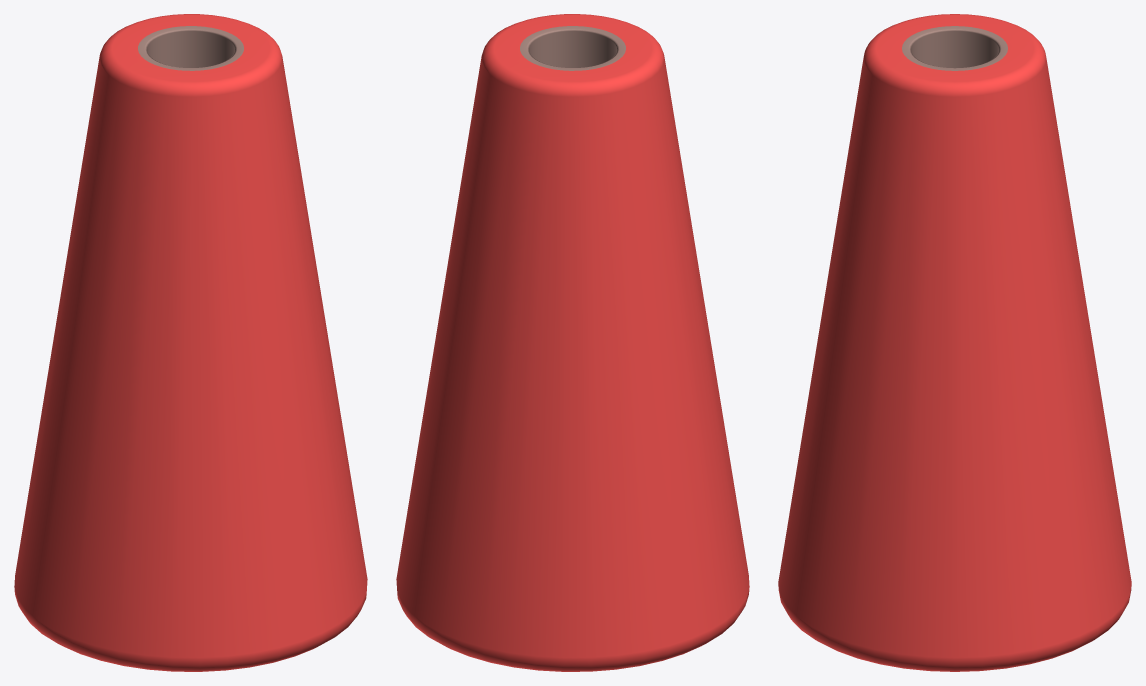
File: Public_19_Big_Skein_of_thread_3.glb
3 views of the same model, side by side, from view 1: azimuth 30°, elevation 25°; view 2: azimuth 150°, elevation 25°; view 3: azimuth 270°, elevation 25° (orthographic).
Parts seen in each view (by area): view 1: Public_19_Big_Skein_of_thread_3; view 2: Public_19_Big_Skein_of_thread_3; view 3: Public_19_Big_Skein_of_thread_3.
Part boxes in pixels (x1=…): Public_19_Big_Skein_of_thread_3: x1=14, y1=14, x2=367, y2=671; Public_19_Big_Skein_of_thread_3: x1=396, y1=14, x2=749, y2=671; Public_19_Big_Skein_of_thread_3: x1=778, y1=14, x2=1131, y2=671.
Bounding box in the file's own units: 0.8209 × 1.42 × 0.8209.
Materials: 1 (1 with a texture image).
